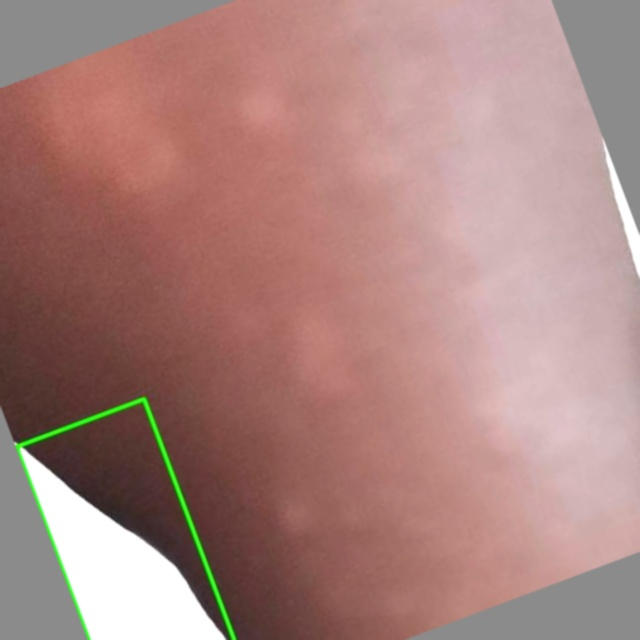Tinea Corporis: (16, 399, 235, 639)
